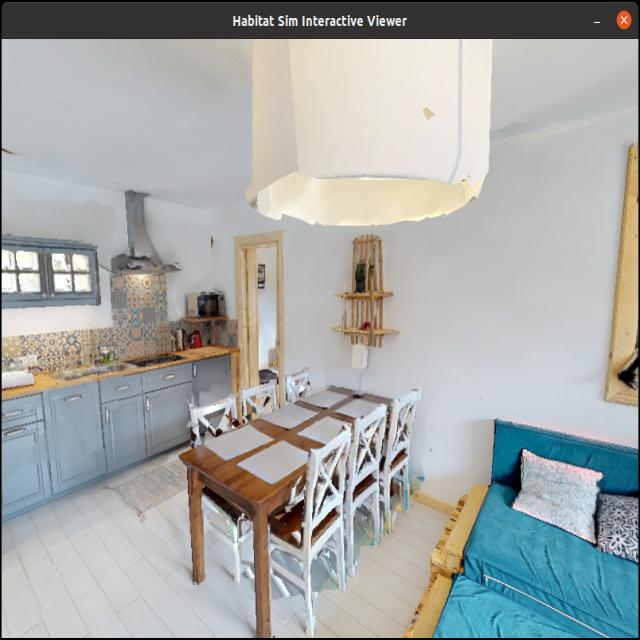chair: (255, 410, 352, 633)
door-frame: (232, 230, 290, 431)
sofa: (432, 394, 640, 640)
table: (177, 366, 420, 640)
